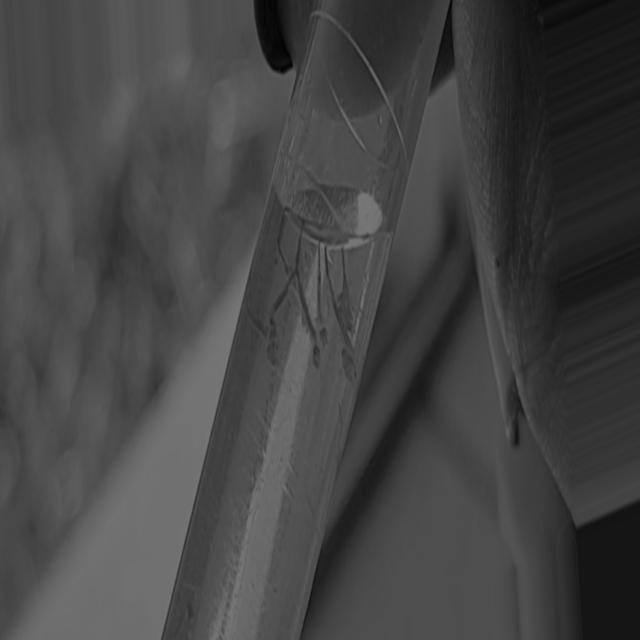larvas: (327, 253, 350, 370), (298, 278, 322, 369), (246, 302, 276, 358), (270, 285, 292, 335), (316, 244, 326, 345), (339, 255, 352, 331), (276, 212, 291, 272)
